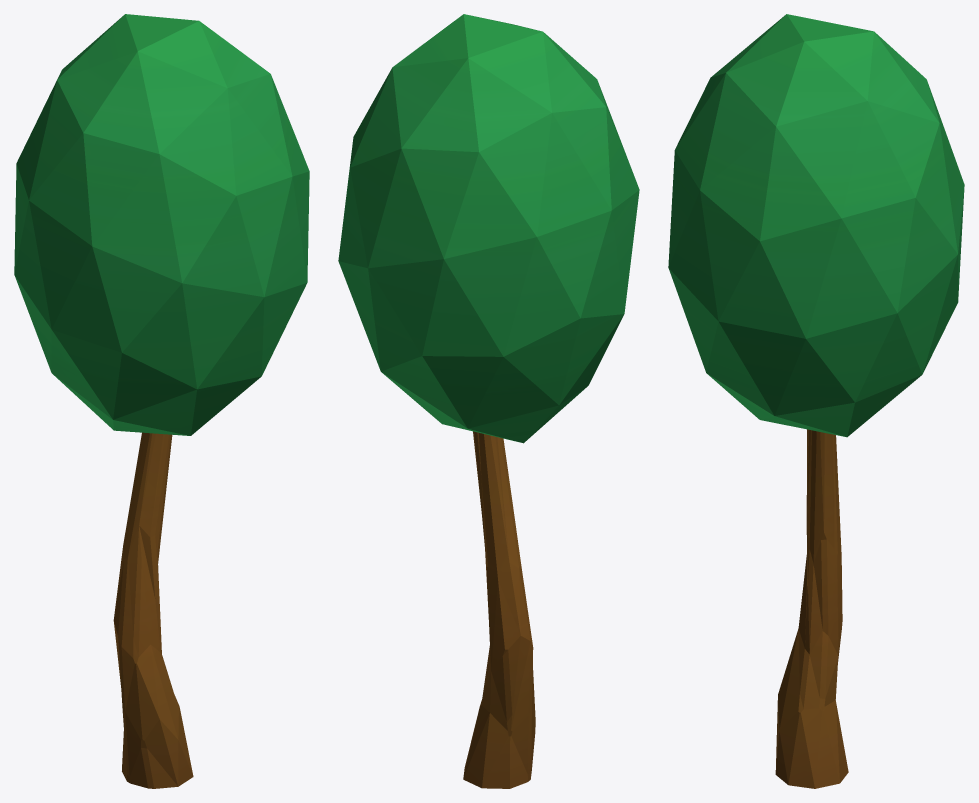
The model's file is tree_poplar.glb.
3 renders of one model, left to right at view 1: azimuth 30°, elevation 25°; view 2: azimuth 150°, elevation 25°; view 3: azimuth 270°, elevation 25°, orthographic.
Parts seen in each view (by area): view 1: Poplar Tree_4_AA; view 2: Poplar Tree_4_AA; view 3: Poplar Tree_4_AA.
Boxes of the visible parts, x1,y1,x2,y2 form: Poplar Tree_4_AA: (14,14,309,788); Poplar Tree_4_AA: (338,14,639,788); Poplar Tree_4_AA: (668,14,964,788).
Bounding box in the file's own units: 1.56 × 4.36 × 1.56.
1 material, 1 textured.
